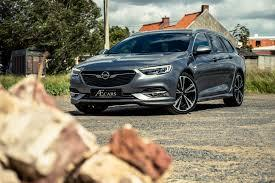opel: (100, 69, 110, 81)
